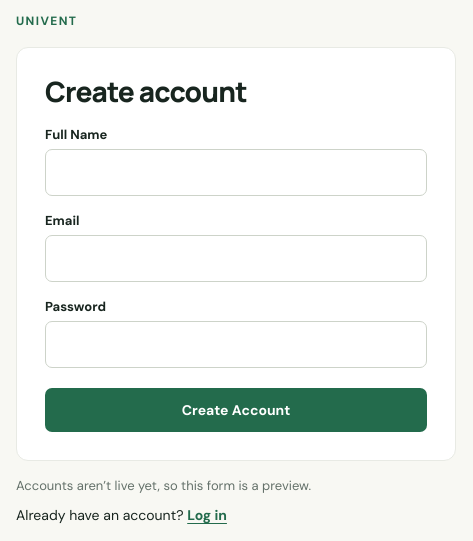
Auth page › switches back to login
Click the button "Log in". click: (207,515)
box: [187, 506, 227, 524]
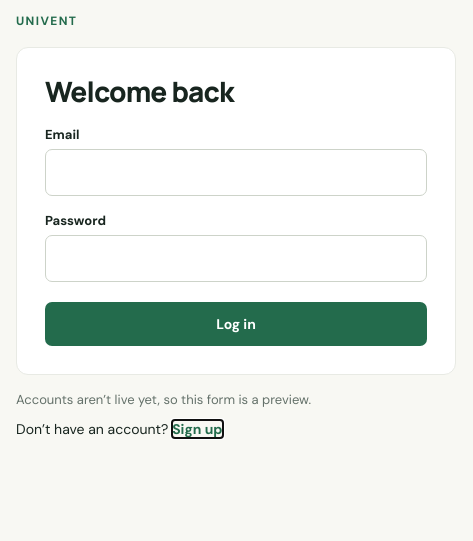
Check: the heading "Welcome back" is shown, box [45, 72, 234, 110]
